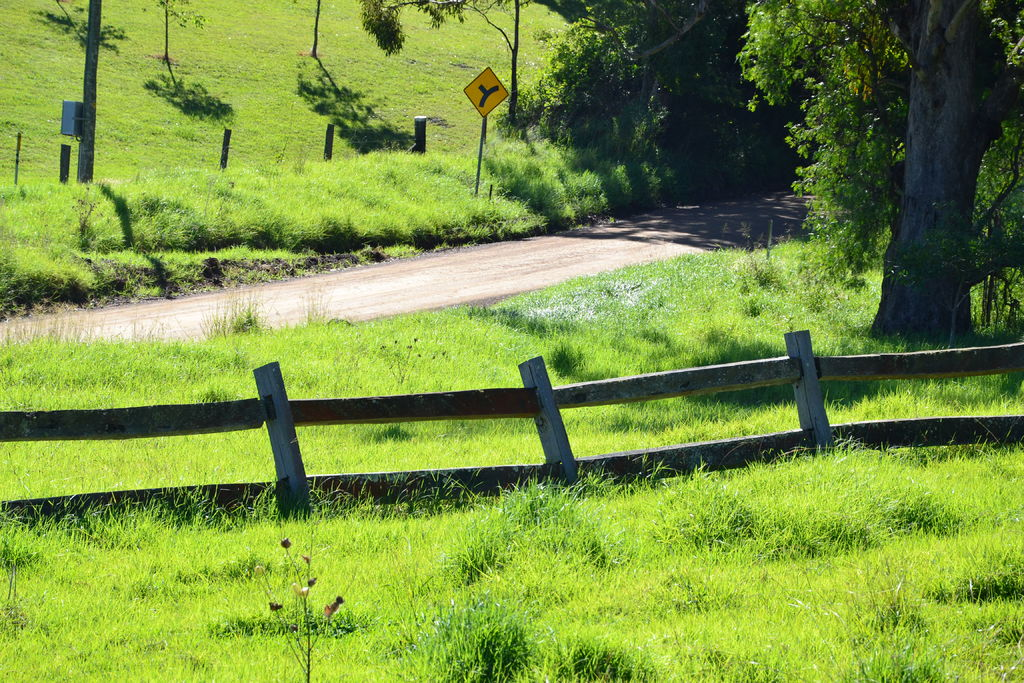Tree: (743, 3, 994, 333)
